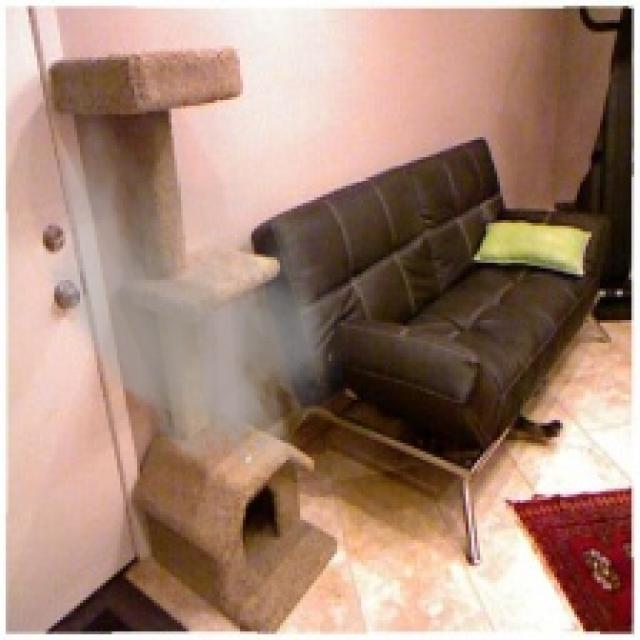smoke: (9, 63, 360, 488)
